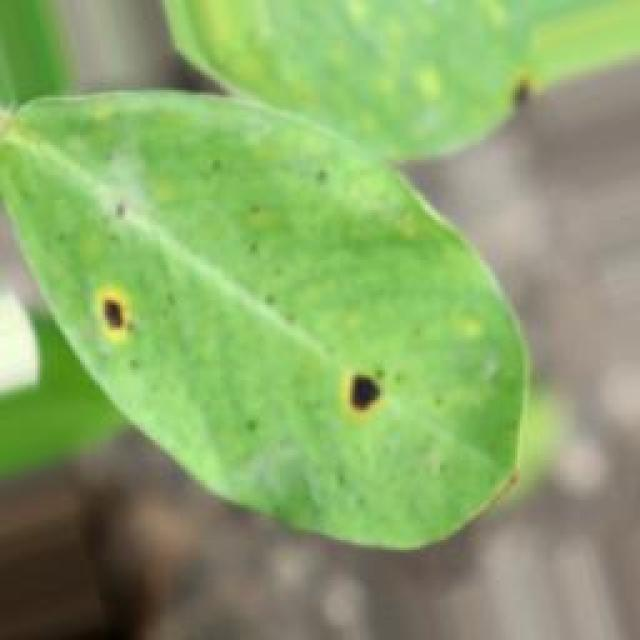Yellowish: (89, 266, 165, 368), (321, 336, 398, 436), (498, 55, 548, 136)
